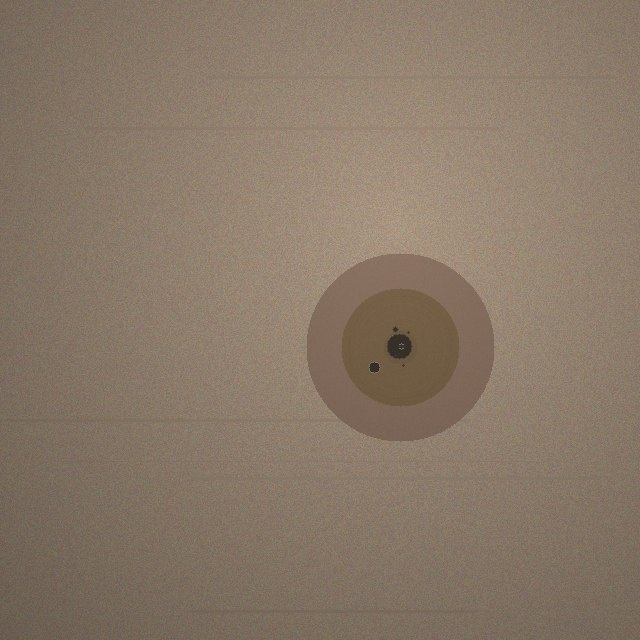shrinkage: (306, 253, 494, 441)
